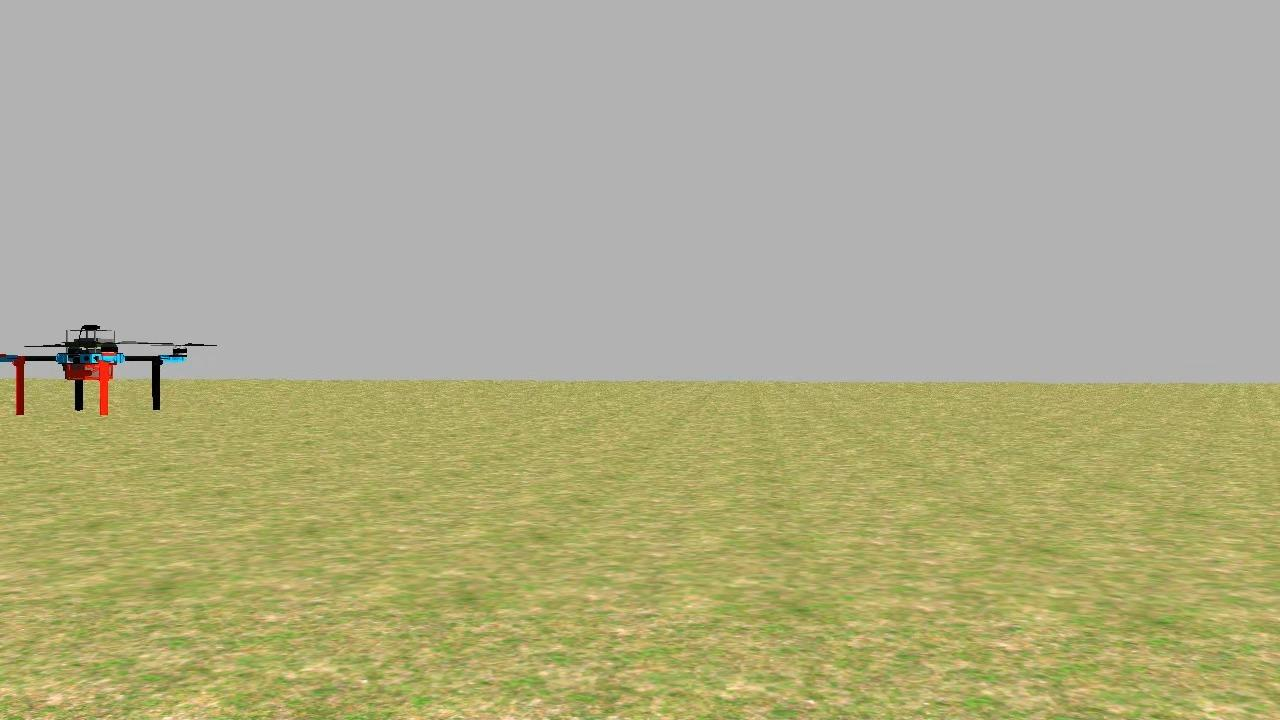UAV: (0, 308, 197, 423)
